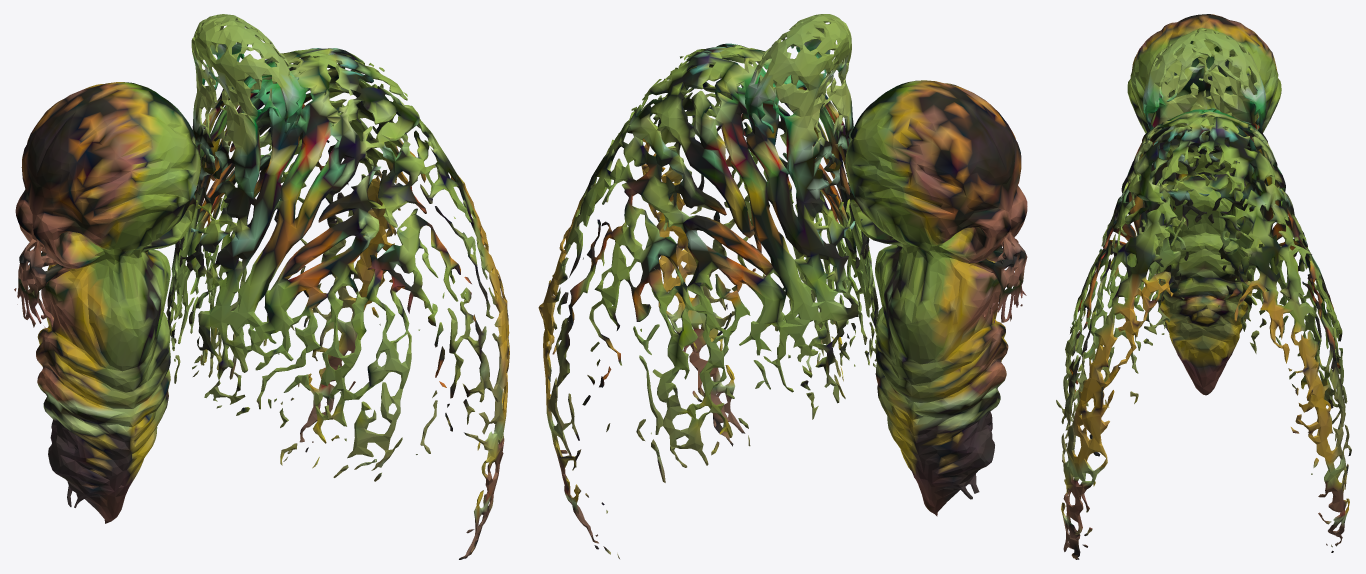
Rendered from viper.glb.
The picture shows the model from 3 angles, left to right: view 1: azimuth 30°, elevation 25°; view 2: azimuth 150°, elevation 25°; view 3: azimuth 270°, elevation 25°; orthographic projection. The views are drawn at different scales.
Visible parts, largest first — view 1: world; view 2: world; view 3: world.
Part boxes in pixels (bbox=[...]): world: bbox=[14, 14, 509, 559]; world: bbox=[538, 14, 1027, 558]; world: bbox=[1056, 14, 1351, 559].
Bounding box in the file's own units: 0.8492 × 1 × 0.5813.
